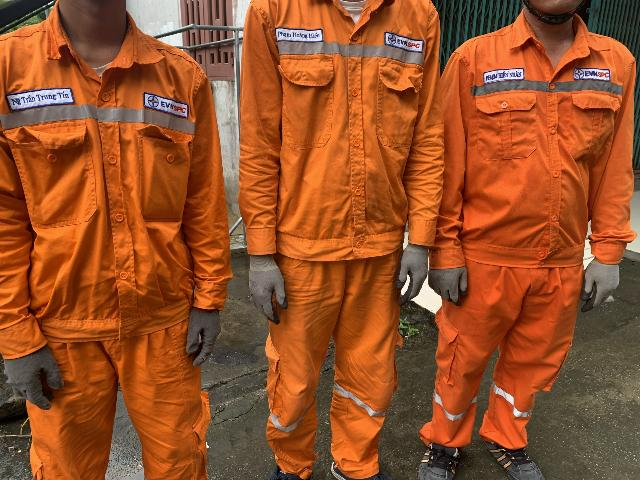gloves: (5, 332, 65, 412), (566, 241, 626, 317), (381, 223, 430, 308), (240, 245, 292, 321), (418, 242, 473, 309), (184, 301, 217, 374)
shoes: (478, 426, 558, 480), (422, 422, 462, 480)
